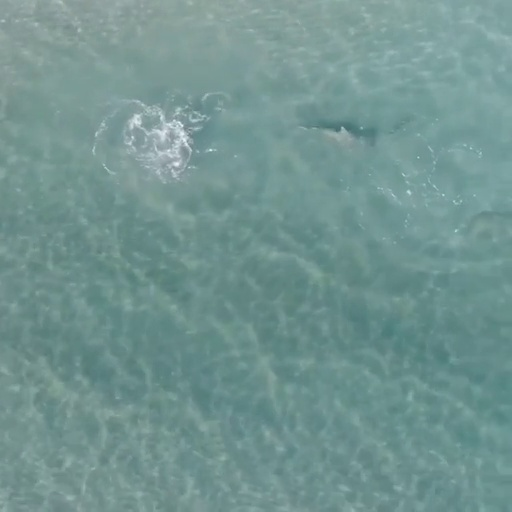shark: (297, 118, 377, 155)
